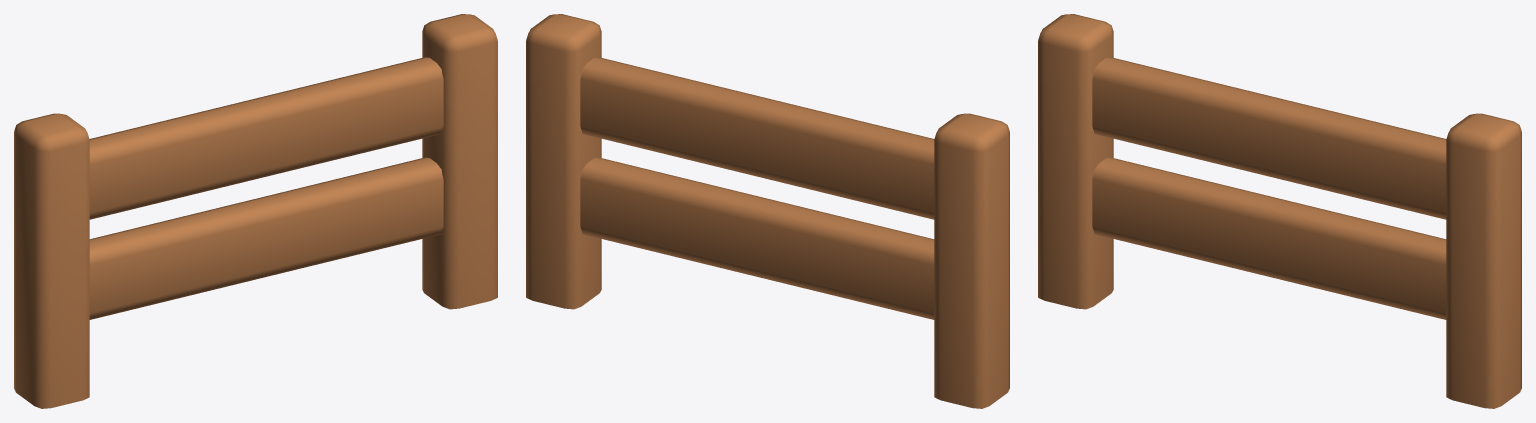
File: Wooden_Fence_03.fbx
The picture shows the model from 3 angles, left to right: view 1: azimuth 30°, elevation 25°; view 2: azimuth 150°, elevation 25°; view 3: azimuth 330°, elevation 25°; orthographic projection.
Parts seen in each view (by area): view 1: Wooden_Fence_03; view 2: Wooden_Fence_03; view 3: Wooden_Fence_03.
Part boxes in pixels (<box>): Wooden_Fence_03: <box>14,14,497,408</box>; Wooden_Fence_03: <box>526,14,1009,408</box>; Wooden_Fence_03: <box>1038,14,1521,408</box>.
Size of the model in its own units: 1580 by 878 by 183.
